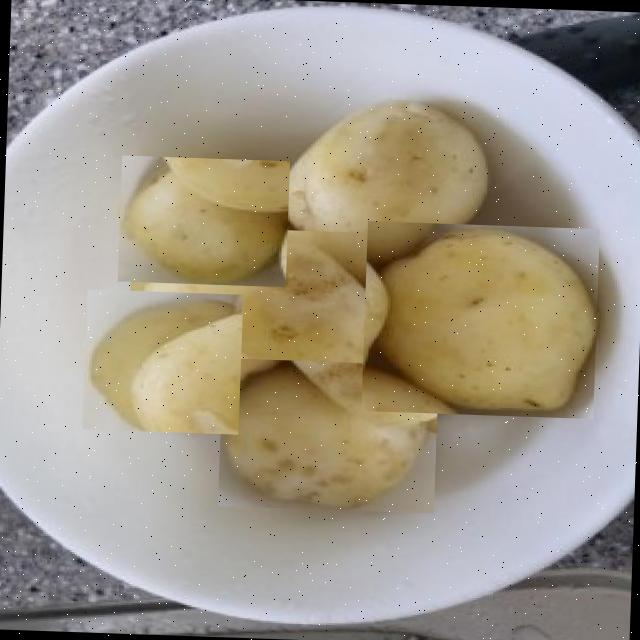Potato: (126, 224, 390, 426), (361, 220, 599, 418), (272, 94, 498, 266), (217, 357, 438, 512), (82, 288, 243, 433), (118, 154, 290, 286)
